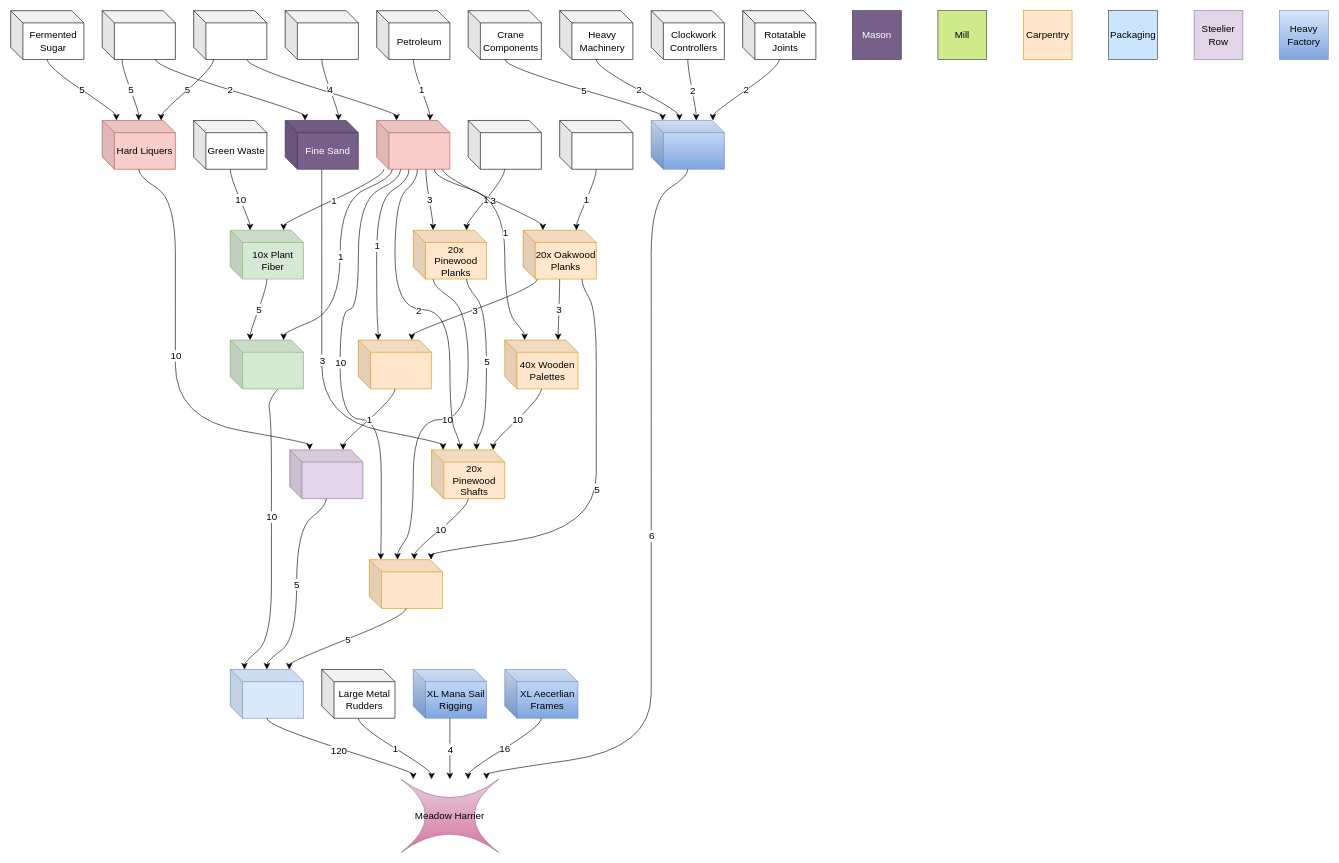
Image size: 1339x863. Some labels were removed from this diagram. The shapes that lost their labels are listed below. From the top down, each one's box as (x1, y1, x2, y2) in pixels, then its label:
(102, 10, 175, 59): Water
(193, 10, 267, 59): Glassware
(285, 10, 358, 59): Sand Pile
(376, 120, 450, 169): Machine Oil
(468, 120, 541, 169): Pinewood Logs
(559, 120, 633, 169): Oakwood Logs
(651, 120, 724, 169): Large Cranes
(230, 339, 303, 389): 10x Rope
(358, 339, 432, 389): Empty Crates
(289, 449, 363, 499): 50x Novels
(369, 559, 443, 608): 20x Furniture
(230, 669, 303, 718): 10x Aecerlian Ship Equipment
